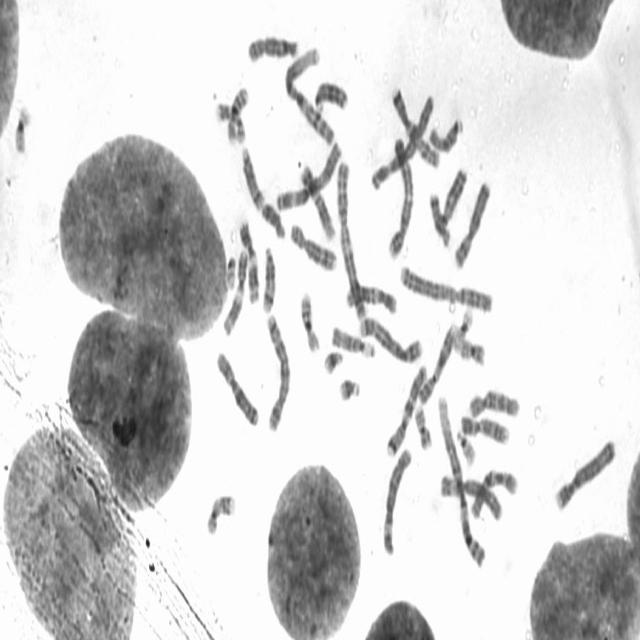A1: (434, 387, 487, 570), (282, 43, 336, 147)
A2: (334, 154, 368, 322), (396, 258, 494, 314)
A3: (369, 88, 436, 192), (273, 136, 343, 212)
B4: (551, 431, 618, 513), (386, 132, 414, 261)
B5: (262, 308, 292, 433), (356, 310, 424, 364)
C10: (467, 462, 520, 520), (466, 383, 522, 420)
C11: (218, 244, 249, 338), (236, 213, 260, 305)
C12: (298, 158, 338, 242), (341, 277, 399, 316)
C6: (379, 439, 414, 558), (437, 468, 505, 523)
C7: (390, 80, 442, 170), (384, 357, 429, 458)
C8: (287, 215, 338, 273), (245, 28, 300, 64)
C9: (417, 317, 458, 405), (457, 407, 511, 447)
D13: (436, 160, 469, 228), (312, 74, 349, 114)
D14: (239, 140, 266, 211), (260, 239, 278, 314)
D15: (328, 319, 377, 359), (427, 110, 465, 154)
E16: (224, 81, 251, 145), (298, 286, 322, 354)
E17: (212, 96, 246, 145), (204, 486, 237, 536)
E18: (427, 185, 452, 248), (259, 195, 286, 241)
F19: (11, 97, 33, 156), (452, 302, 474, 346)
F20: (452, 329, 486, 367), (412, 399, 433, 451)
G21: (336, 370, 362, 403), (321, 343, 345, 376)
G22: (454, 424, 476, 467), (224, 250, 238, 290)
X: (213, 345, 261, 429), (452, 174, 493, 272)
